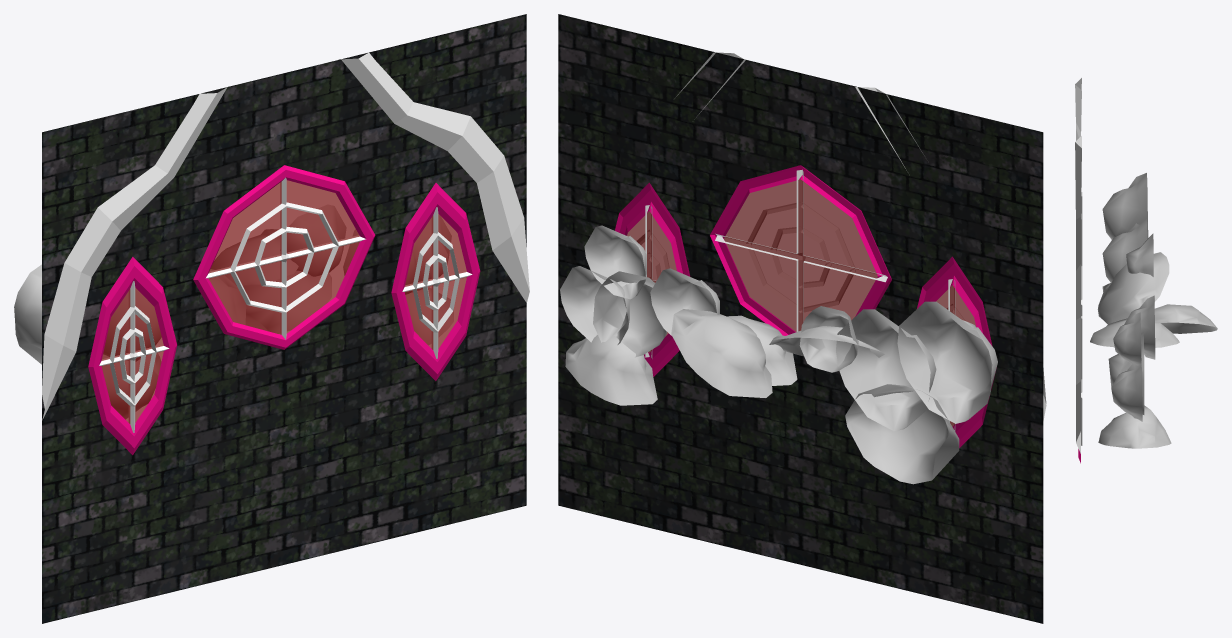
The model's file is squiggroom.fbx.
3 renders of one model, left to right at view 1: azimuth 30°, elevation 25°; view 2: azimuth 150°, elevation 25°; view 3: azimuth 270°, elevation 25°, orthographic. The views are drawn at different scales.
Parts seen in each view (by area): view 1: squigg_bg, squigg_arches, squigg_bones, squigg_windowframe, squigg_windowframe2; view 2: squigg_bg, squigg_bones, squigg_windowframe2, squigg_windowframe, squigg_arches; view 3: squigg_bones, squigg_arches, squigg_windowframe2.
Part boxes in pixels (<box>): squigg_bg: <box>42,14,526,623</box>; squigg_arches: <box>42,52,529,420</box>; squigg_bones: <box>14,205,453,419</box>; squigg_windowframe: <box>110,202,459,406</box>; squigg_windowframe2: <box>99,177,472,432</box>; squigg_bg: <box>558,14,1043,623</box>; squigg_bones: <box>560,225,997,484</box>; squigg_windowframe2: <box>645,169,955,431</box>; squigg_windowframe: <box>637,203,964,320</box>; squigg_arches: <box>674,52,1046,420</box>; squigg_bones: <box>1090,173,1217,448</box>; squigg_arches: <box>1075,78,1081,453</box>; squigg_windowframe2: <box>1081,192,1082,445</box>.
Size of the model in its own units: 3200 by 3100 by 975.
